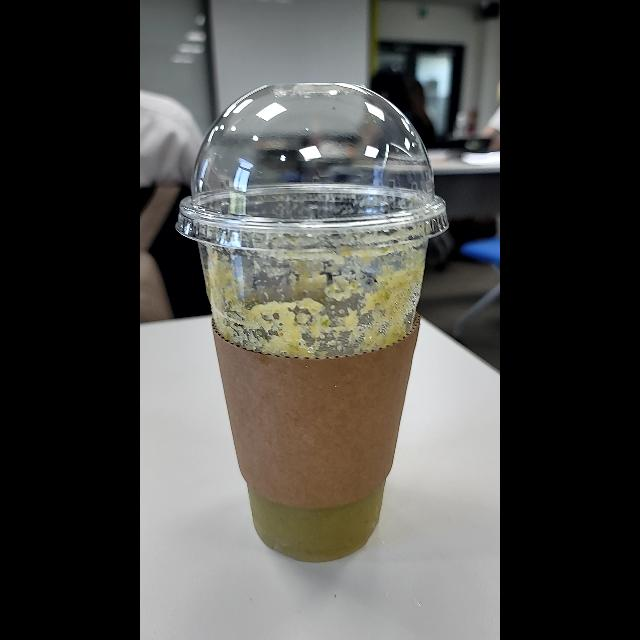plastic_cup: (170, 76, 450, 566)
plastic_cup_lid: (178, 78, 450, 258)
